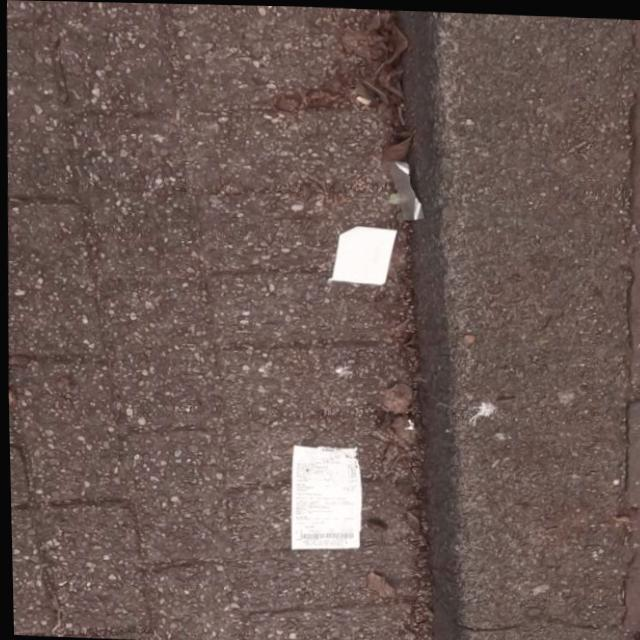Paper: (283, 436, 354, 549), (326, 223, 396, 284)
